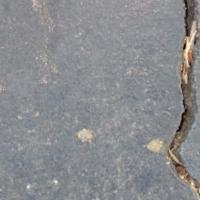crack: (143, 0, 199, 199)
